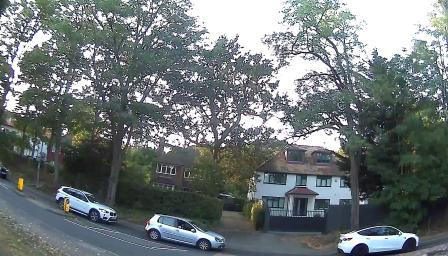Cars: (49, 188, 128, 227), (334, 222, 421, 256), (148, 215, 227, 250)
